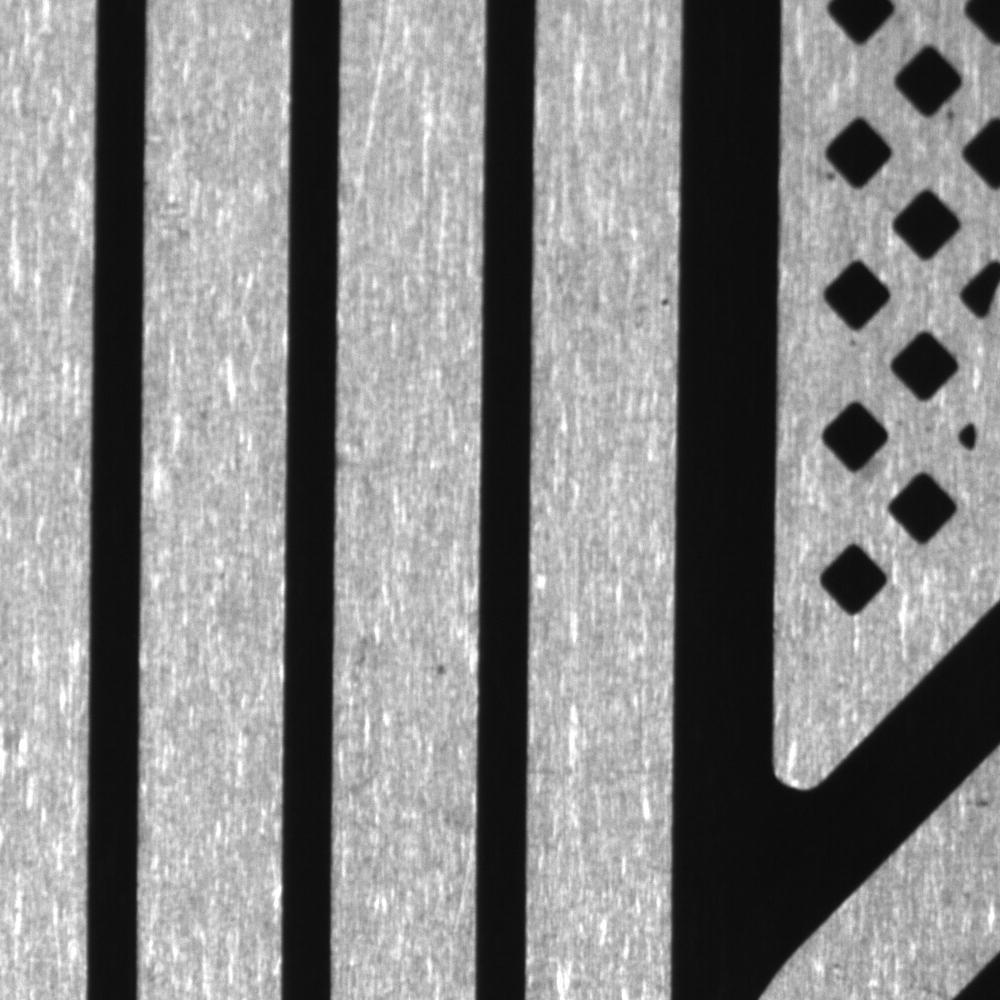Pinhole: (424, 650, 455, 687), (654, 288, 676, 317)
